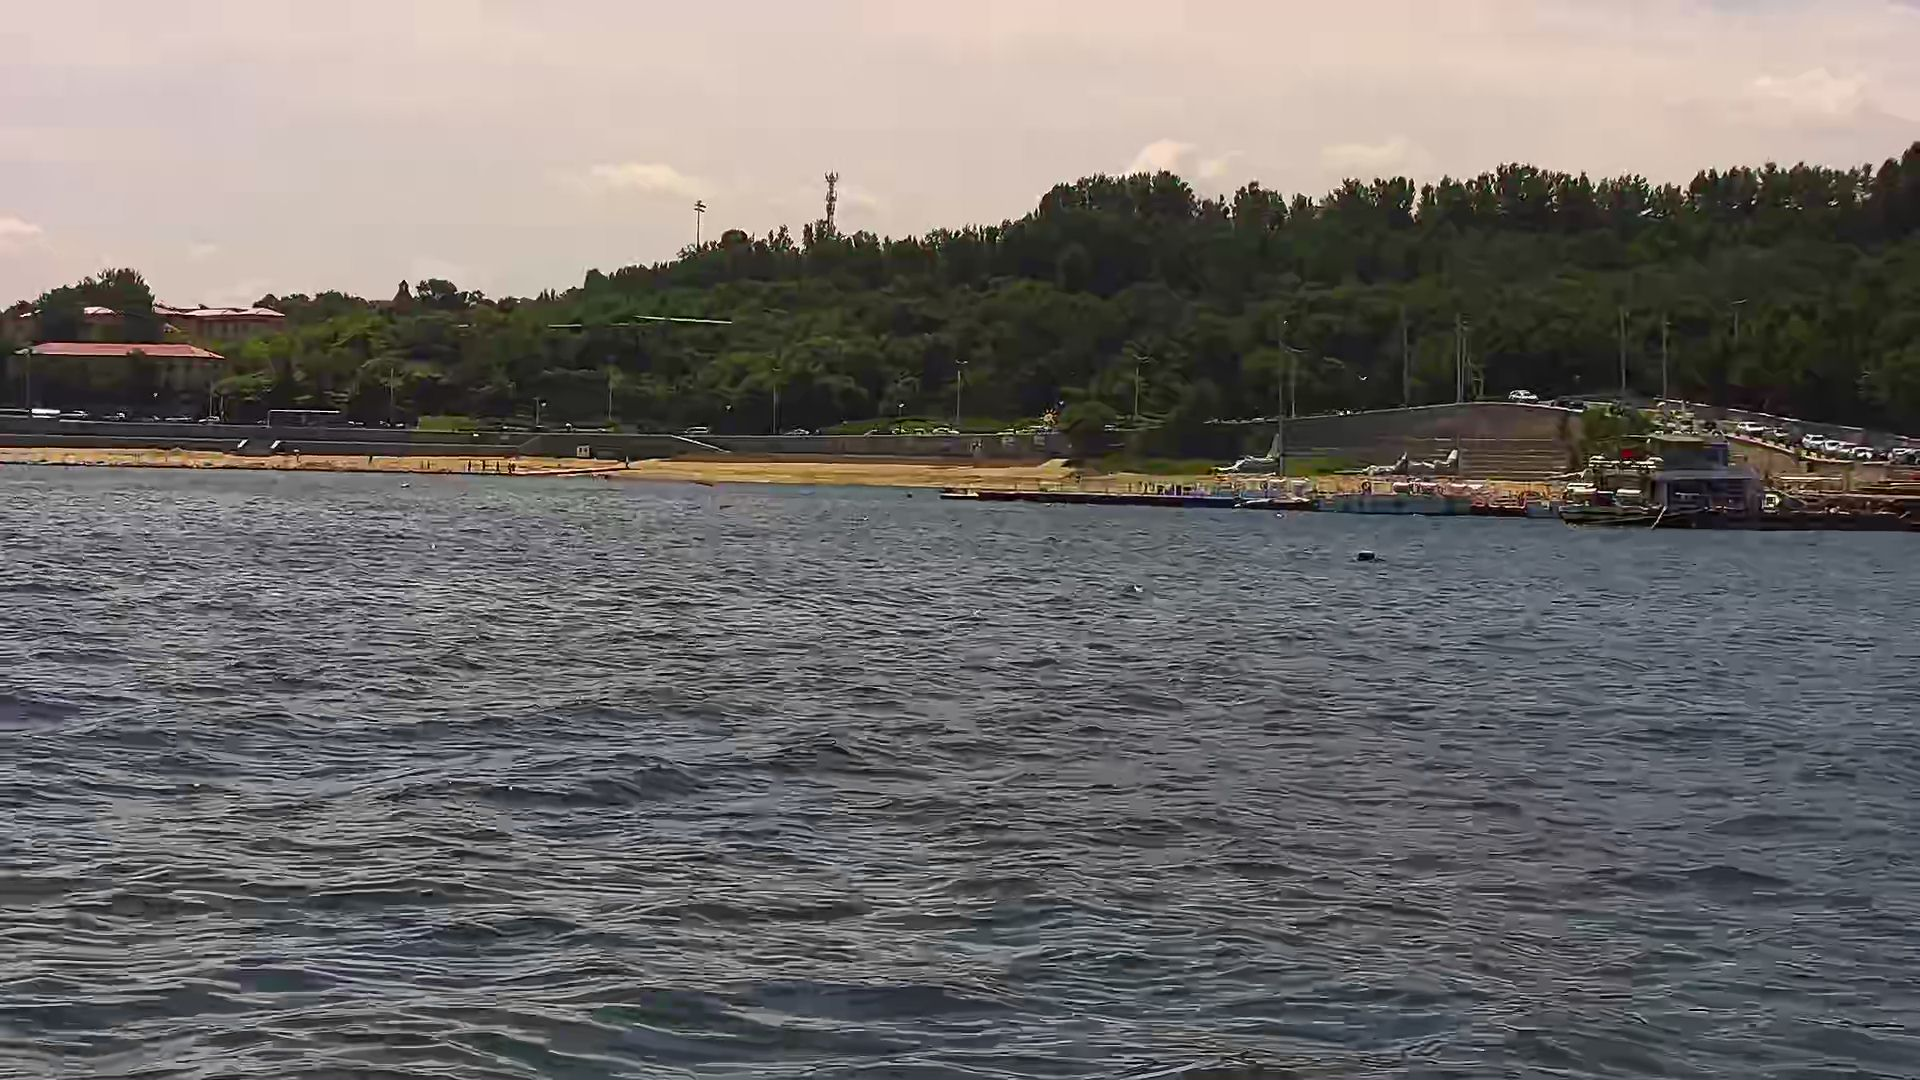boat: (1560, 463, 1788, 521), (1238, 487, 1317, 506)
harbor: (928, 477, 1218, 504)
rubbish: (1354, 542, 1382, 568)
